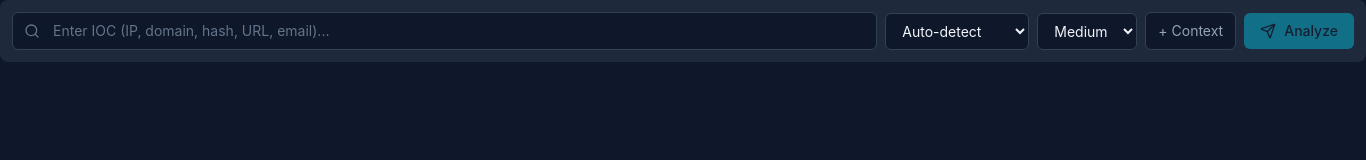
it: IOCInputBar › auto-detects IP type on input
The image size is (1366, 160).
Type "203.0.113.42" into the field with test id "ioc-value-input". click: (445, 31)
box: [12,12,877,50]
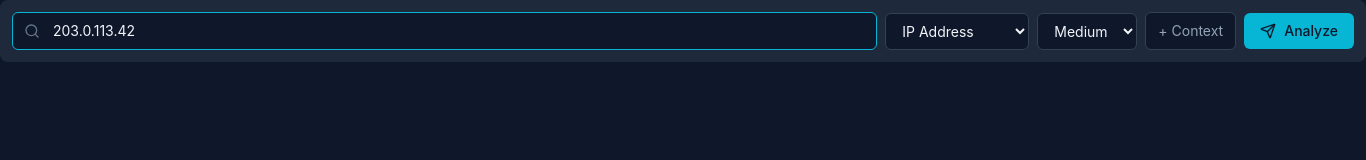
Check: the dropdown with test id "ioc-type-select" shows "IP Address", box [885,12,1029,50]
